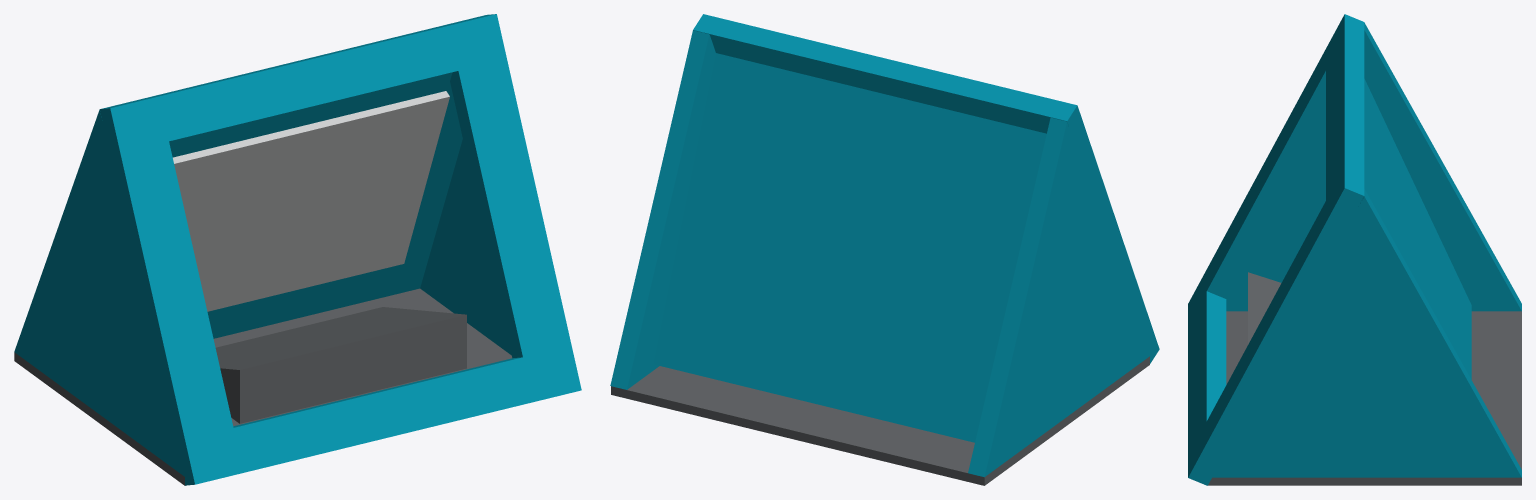
File: Protótipo_2.glb
The picture shows the model from 3 angles, left to right: view 1: azimuth 30°, elevation 25°; view 2: azimuth 150°, elevation 25°; view 3: azimuth 270°, elevation 25°; orthographic projection. The views are drawn at different scales.
Visible parts, largest first — view 1: Mesh_Mesh_head_geo.001_lambert2SG.001; view 2: Mesh_Mesh_head_geo.001_lambert2SG.001; view 3: Mesh_Mesh_head_geo.001_lambert2SG.001.
Part boxes in pixels (<box>): Mesh_Mesh_head_geo.001_lambert2SG.001: <box>14,14,581,485</box>; Mesh_Mesh_head_geo.001_lambert2SG.001: <box>610,14,1159,485</box>; Mesh_Mesh_head_geo.001_lambert2SG.001: <box>1188,14,1521,485</box>.
Bounding box in the file's own units: 0.0451 × 0.036 × 0.0366.
